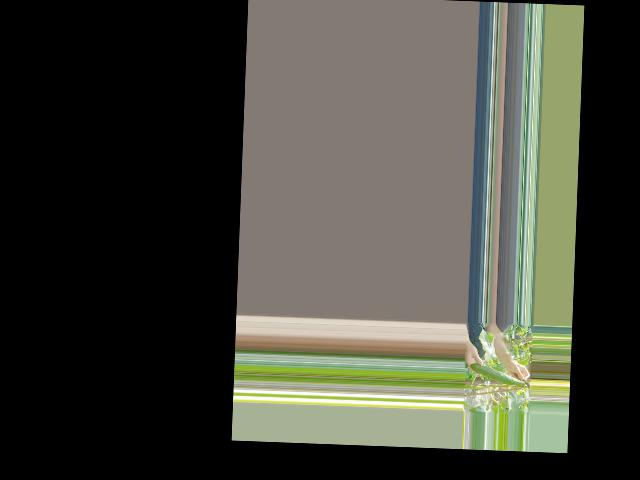cucumber: (469, 362, 524, 386)
